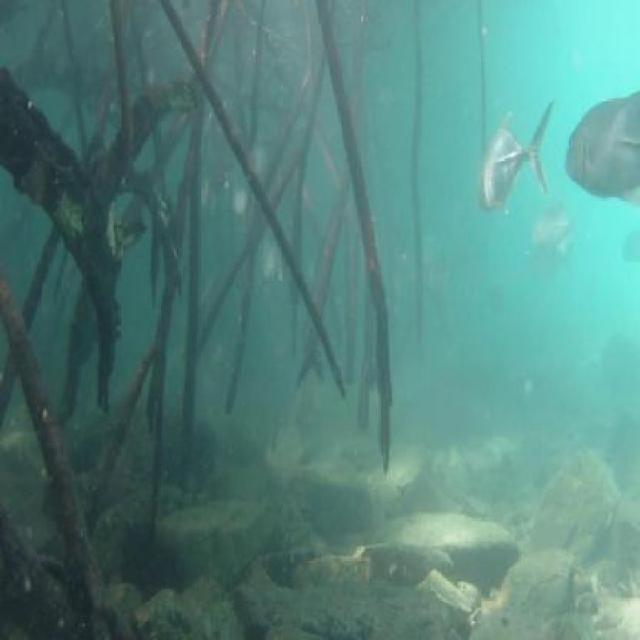Caranx_sexfasciatus_juvenile: (470, 93, 552, 222), (564, 81, 640, 210), (521, 236, 577, 286), (532, 200, 576, 249)
